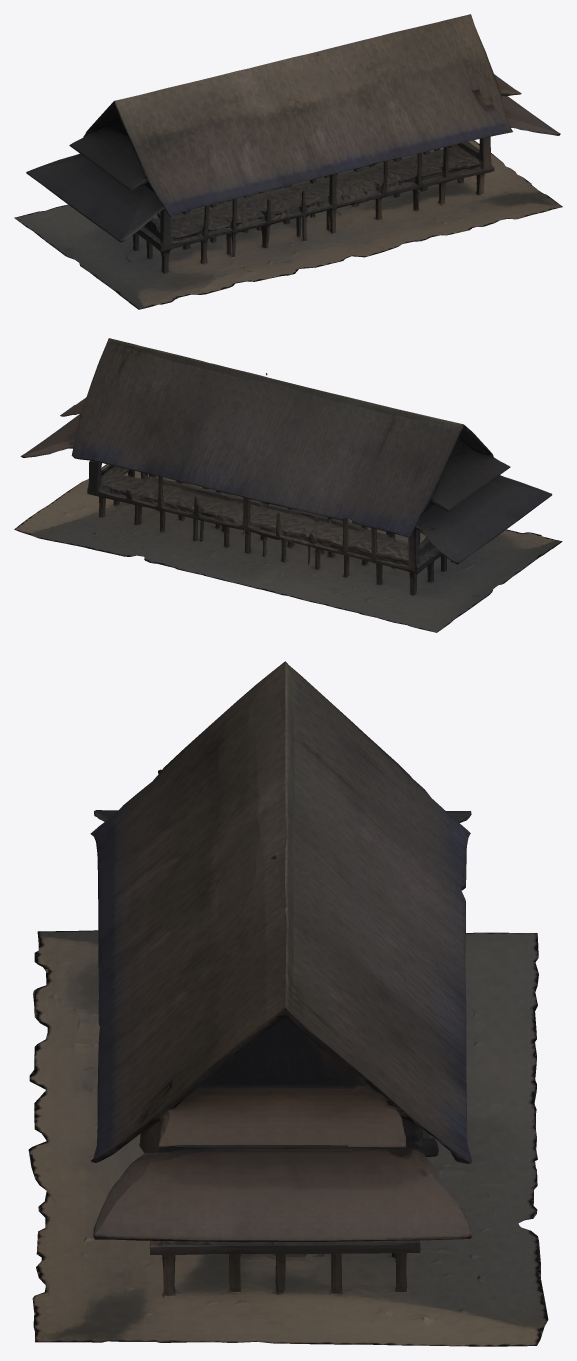
File: maluku.glb
3 views of the same model, one above another, from view 1: azimuth 30°, elevation 25°; view 2: azimuth 150°, elevation 25°; view 3: azimuth 270°, elevation 25° (orthographic). The views are drawn at different scales.
Visible parts, largest first — view 1: world; view 2: world; view 3: world.
Boxes of the visible parts, left/top/right/bottom form: world: left=14, top=14, right=562, bottom=309; world: left=14, top=338, right=562, bottom=632; world: left=28, top=661, right=548, bottom=1346.
Bounding box in the file's own units: 0.7001 × 0.2395 × 0.3598.
Materials: 1 (1 with a texture image).
